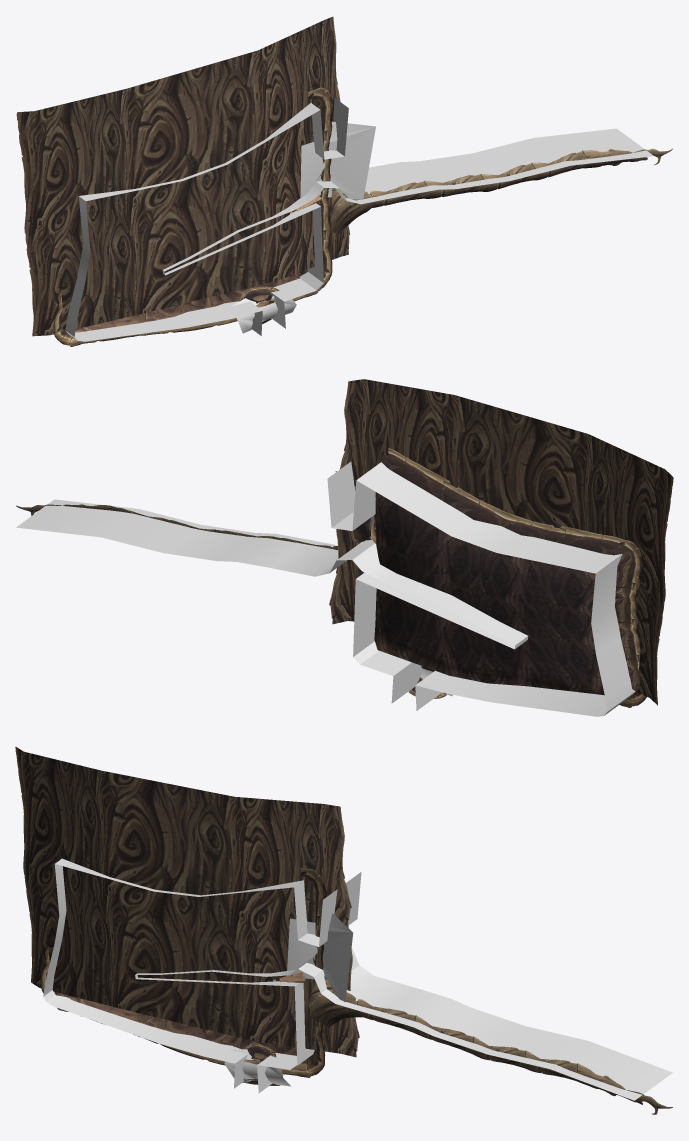
Rendered from Tree Village Pt5.FBX.
3 renders of one model, top to bottom at view 1: azimuth 30°, elevation 25°; view 2: azimuth 150°, elevation 25°; view 3: azimuth 330°, elevation 25°, orthographic.
Parts seen in each view (by area): view 1: LVL11 Big Tree Bark Pt5, LVL 11 Col Pt5, LVL11 Big Tree Interior Pt5, Btree Branch Pt5, LVL 11 Tree Int Mask Pt5, LVL11 BTree Mask Ext Pt5, LVL11 Hole Mask Pt5; view 2: LVL11 Big Tree Bark Pt5, LVL11 Big Tree Interior Pt5, LVL 11 Col Pt5, Btree Branch Pt5; view 3: LVL11 Big Tree Bark Pt5, LVL 11 Col Pt5, Btree Branch Pt5, LVL11 Big Tree Interior Pt5, LVL 11 Tree Int Mask Pt5, LVL11 BTree Mask Ext Pt5, LVL11 Hole Mask Pt5.
Boxes of the visible parts, box(x1,y1,x2,y2) form: LVL11 Big Tree Bark Pt5: box(16, 16, 349, 336); LVL 11 Col Pt5: box(65, 98, 653, 341); LVL11 Big Tree Interior Pt5: box(53, 87, 333, 346); Btree Branch Pt5: box(331, 148, 672, 234); LVL 11 Tree Int Mask Pt5: box(327, 121, 375, 199); LVL11 BTree Mask Ext Pt5: box(300, 142, 325, 197); LVL11 Hole Mask Pt5: box(232, 290, 296, 333); LVL11 Big Tree Bark Pt5: box(329, 379, 673, 705); LVL11 Big Tree Interior Pt5: box(372, 448, 646, 707); LVL 11 Col Pt5: box(16, 461, 635, 716); Btree Branch Pt5: box(16, 504, 337, 549); LVL11 Big Tree Bark Pt5: box(15, 747, 359, 1057); LVL 11 Col Pt5: box(43, 858, 672, 1100); Btree Branch Pt5: box(308, 975, 672, 1114); LVL11 Big Tree Interior Pt5: box(40, 868, 326, 1077); LVL 11 Tree Int Mask Pt5: box(322, 913, 353, 1001); LVL11 BTree Mask Ext Pt5: box(287, 918, 317, 979); LVL11 Hole Mask Pt5: box(224, 1049, 291, 1086).
Bounding box in the file's own units: 5749 × 576 × 2491.
